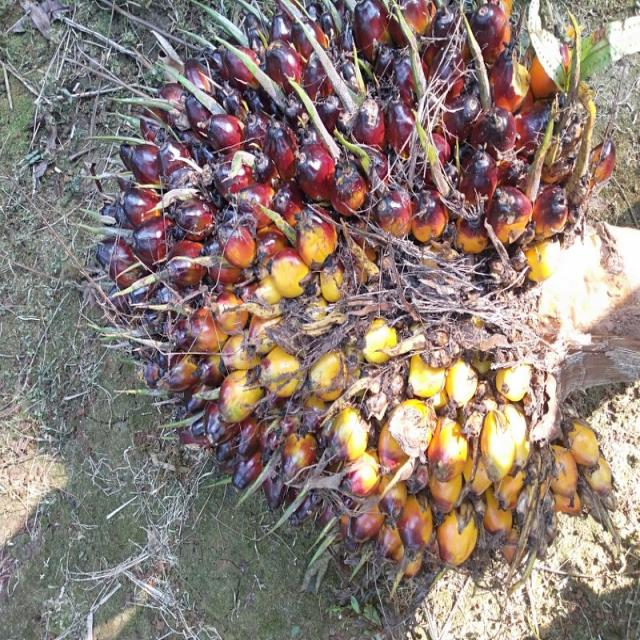fraksi 1: (88, 0, 614, 587)
